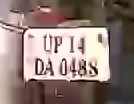0: (58, 57, 67, 77)
1: (67, 34, 75, 55)
4: (76, 36, 87, 55), (68, 58, 77, 80)
8: (88, 57, 100, 79), (76, 58, 87, 78)
A: (44, 59, 54, 76)
D: (34, 55, 44, 77)
P: (53, 34, 62, 56)
U: (41, 33, 53, 54)
